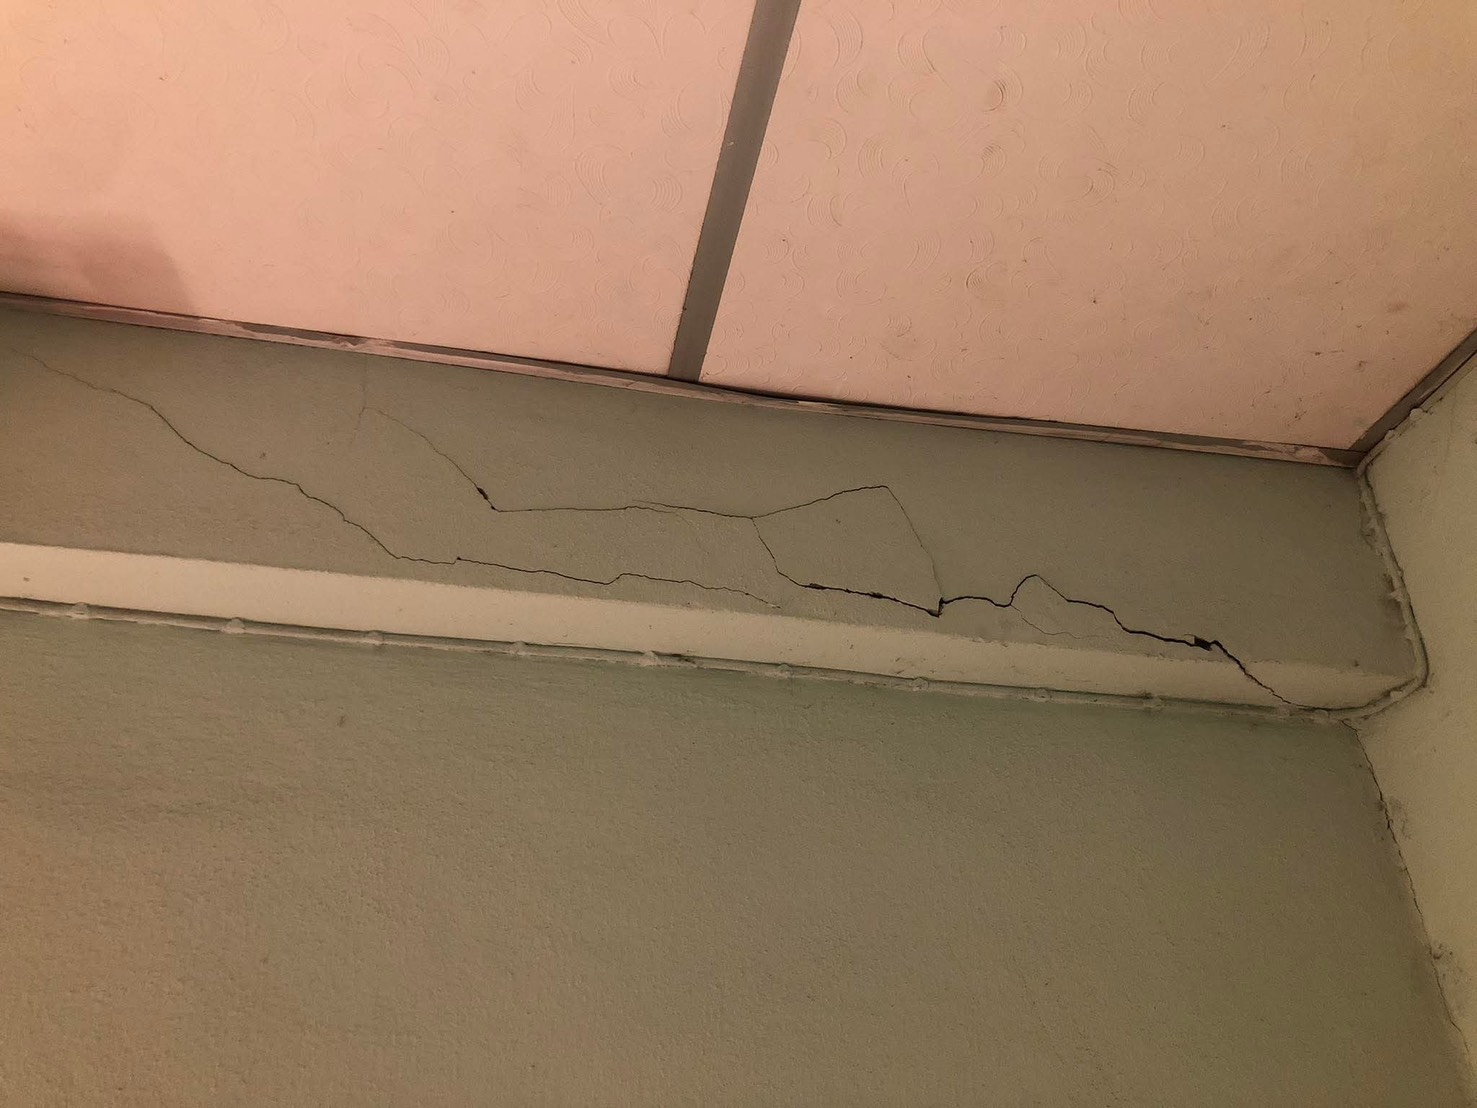High: (7, 325, 1389, 726)
